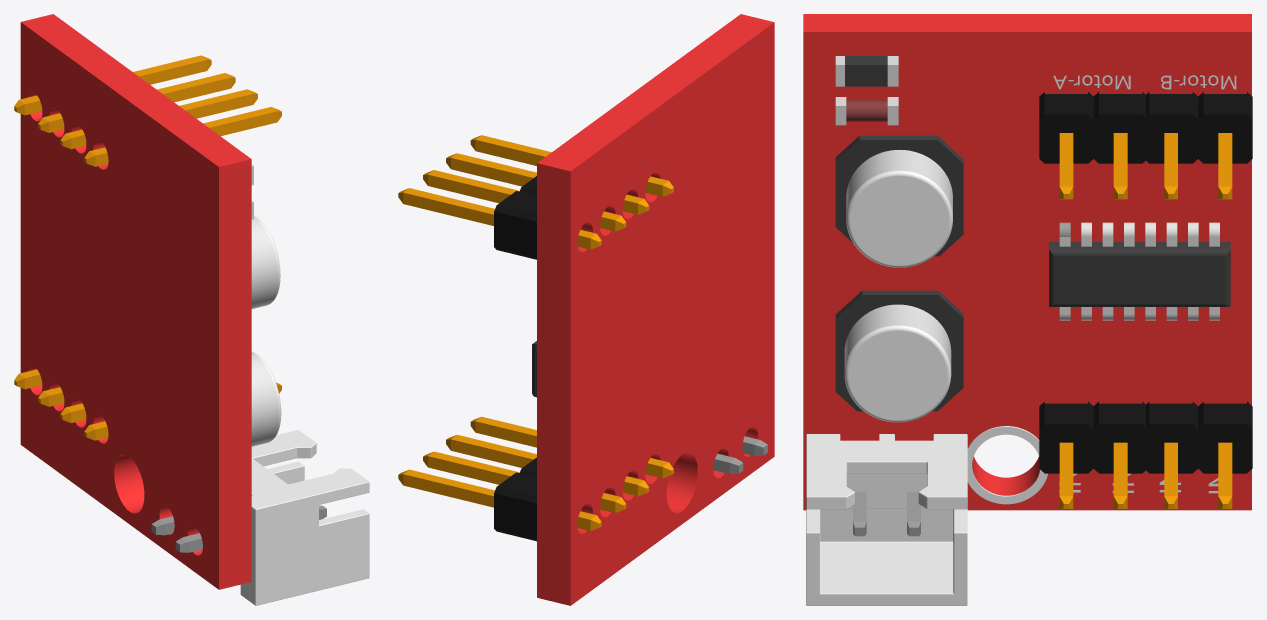
Rendered from motorDriver.glb.
3 renders of one model, left to right at view 1: azimuth 30°, elevation 25°; view 2: azimuth 150°, elevation 25°; view 3: azimuth 270°, elevation 25°, orthographic. The views are drawn at different scales.
Parts seen in each view (by area): view 1: COMPOUND178; view 2: COMPOUND178; view 3: COMPOUND178.
Boxes of the visible parts, bbox=[...] form: COMPOUND178: bbox=[14, 14, 369, 605]; COMPOUND178: bbox=[398, 14, 774, 605]; COMPOUND178: bbox=[803, 14, 1252, 605].
Bounding box in the file's own units: 54.93 × 121 × 96.72.
